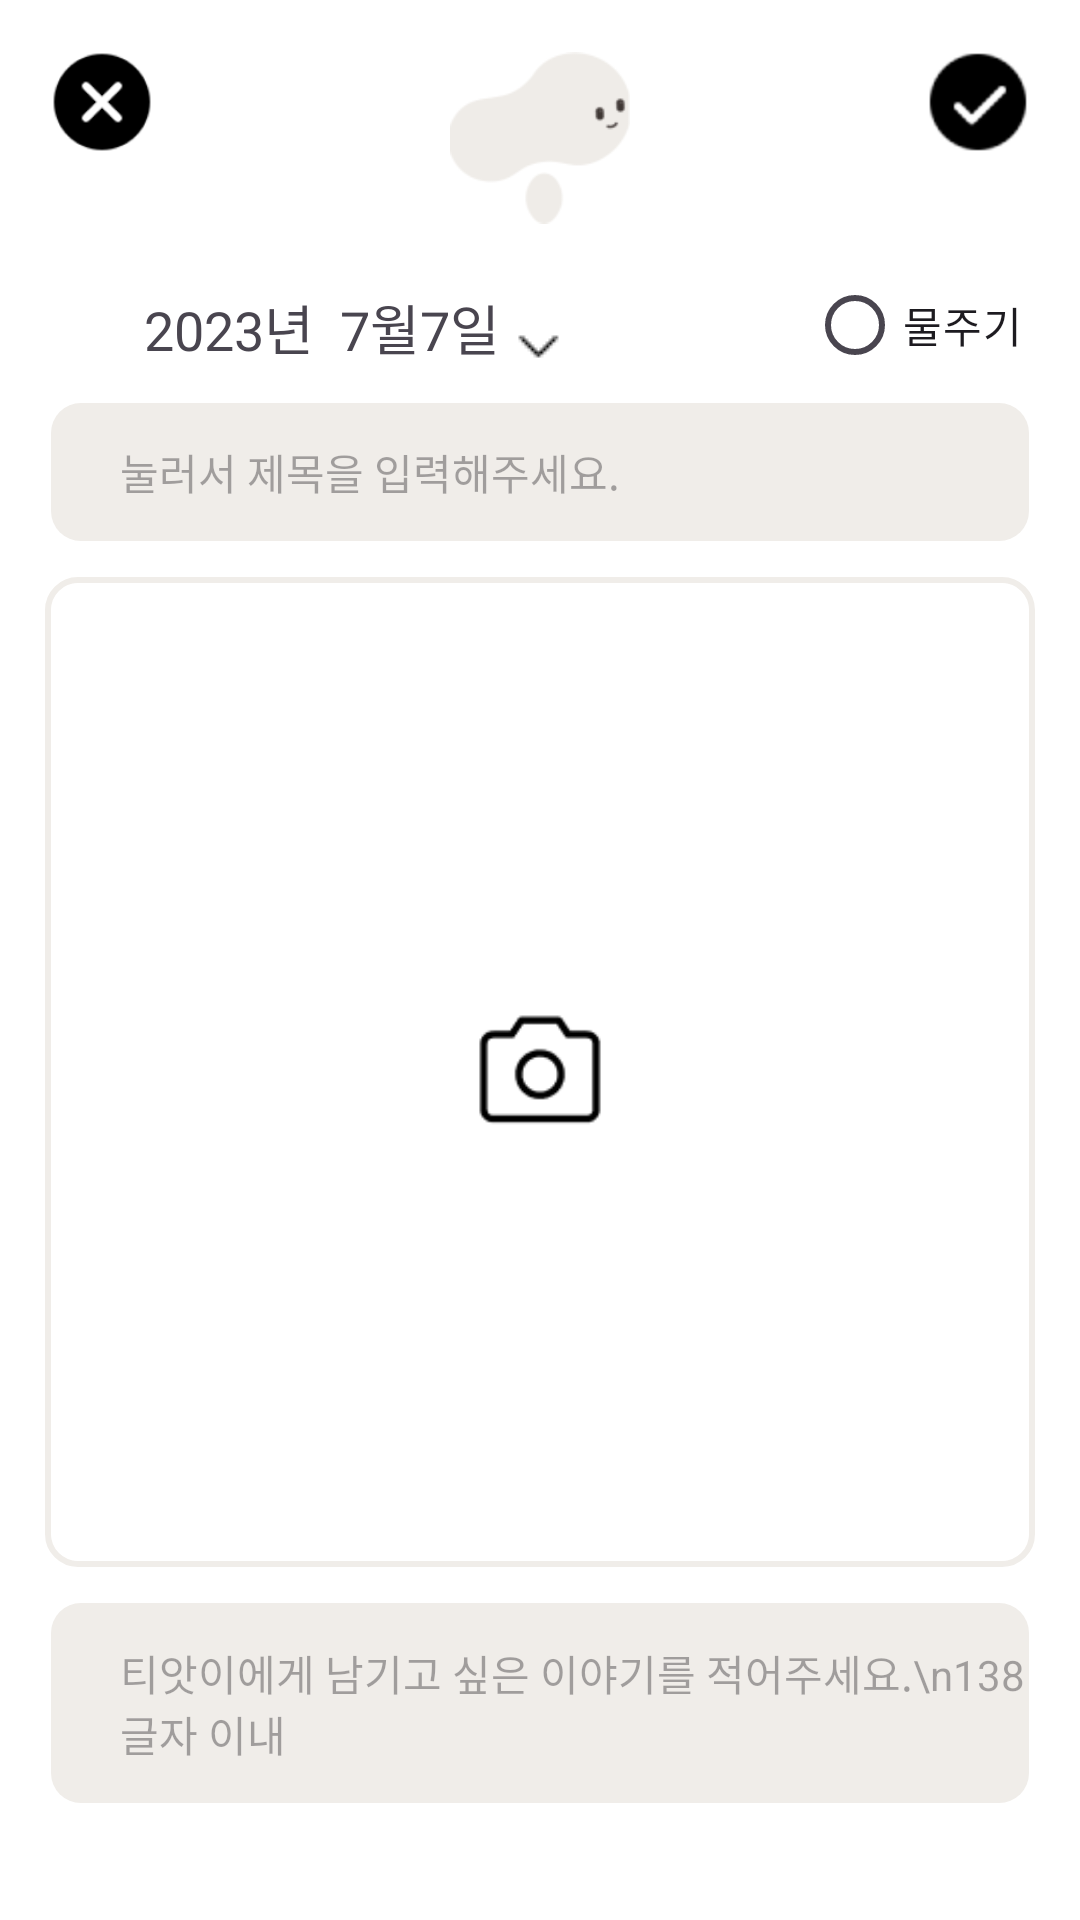

Icons on this 1080w x 1920h Android screen, each with its box as (x1, y1, x2, y2):
arrow calendar: (518, 335, 559, 358)
check edit: (929, 53, 1027, 151)
close edit: (53, 53, 151, 151)
